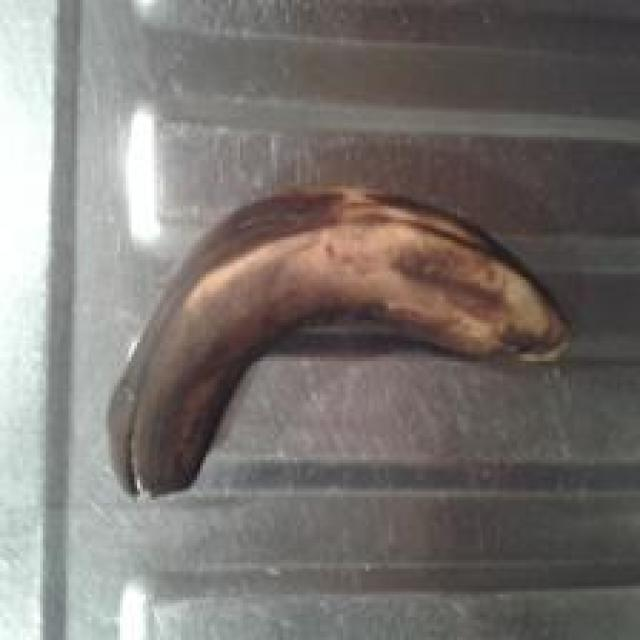Rotten_Banana: (14, 244, 580, 489)
